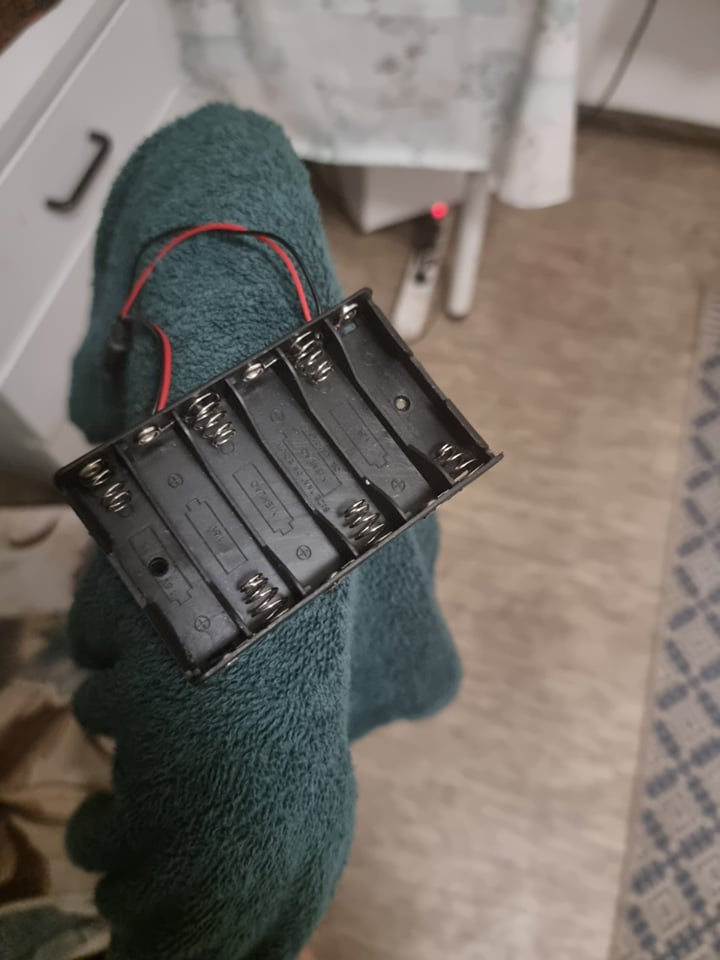BATTERY BOX: (55, 290, 506, 694)
